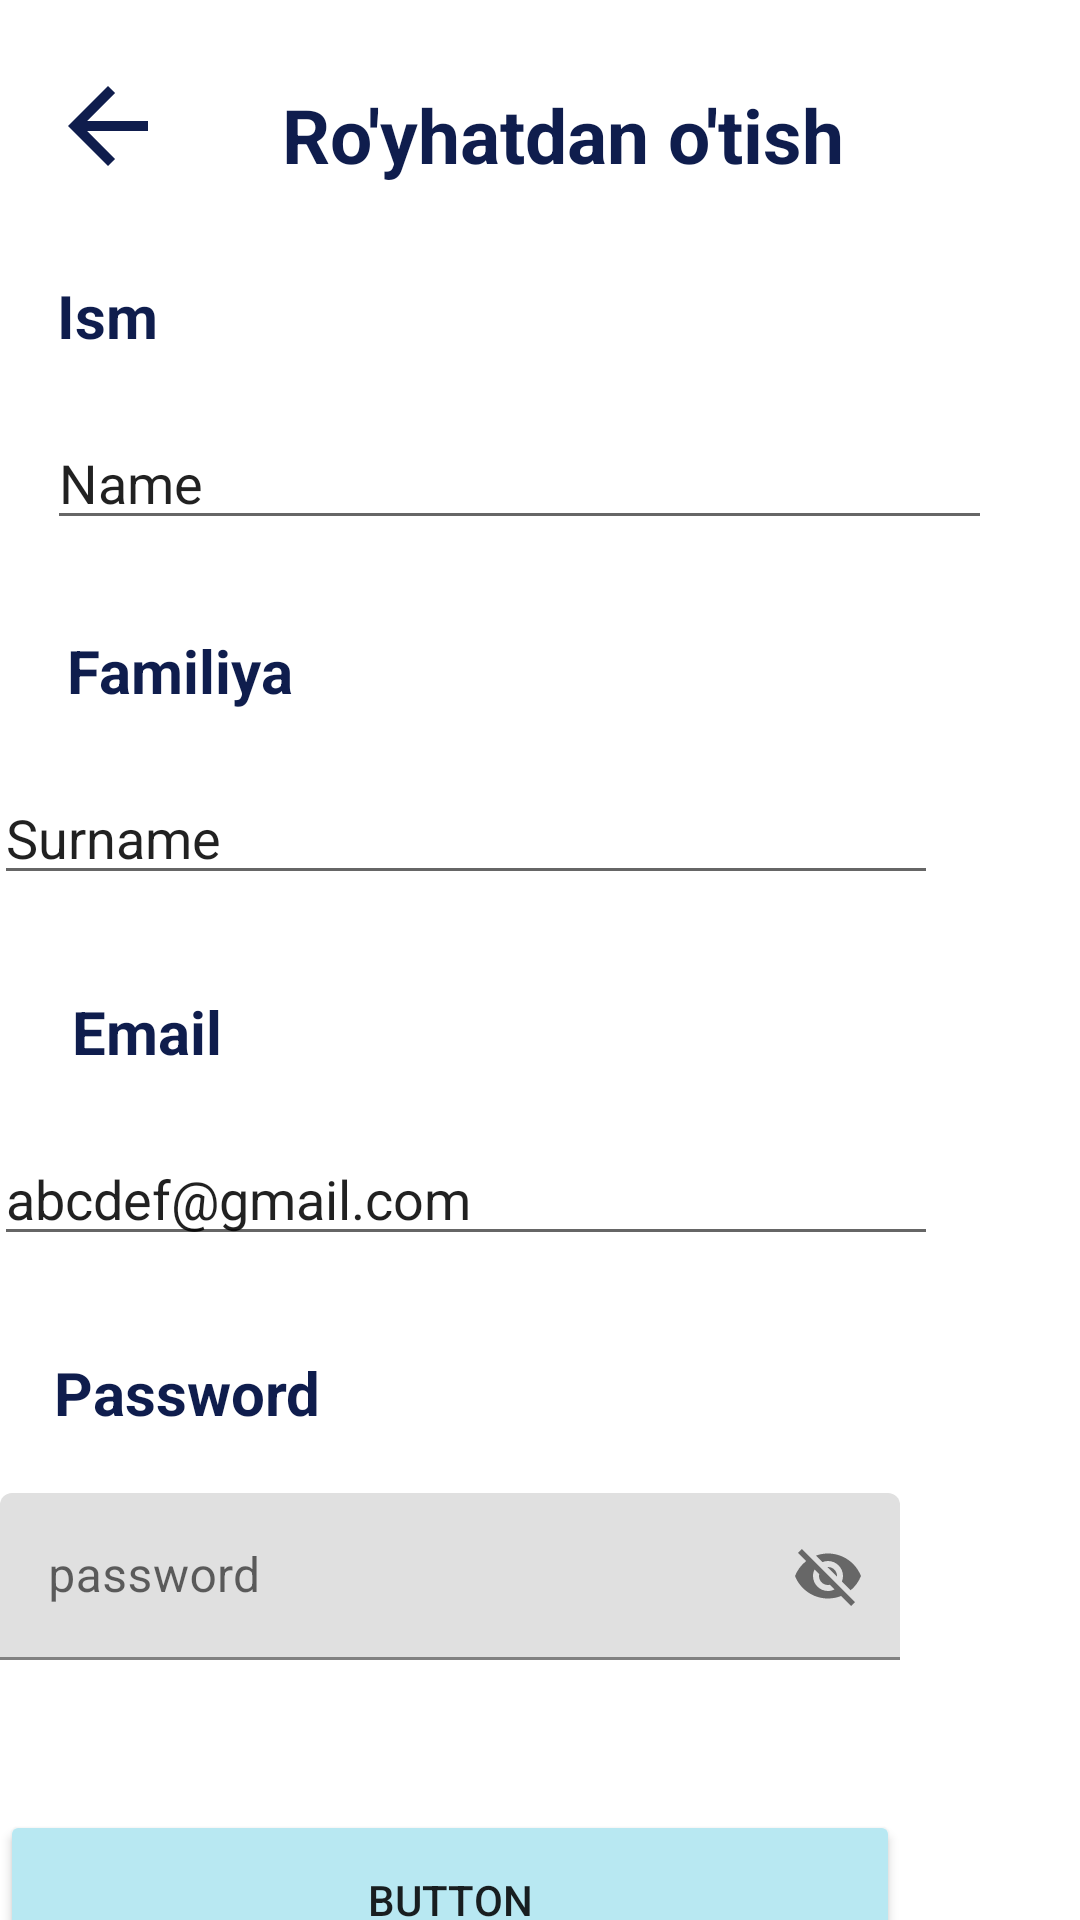

Where icons sit on this 1080 x 1920 app screen, as (x1, y1, x2, y2):
arrow back: (68, 86, 148, 166)
